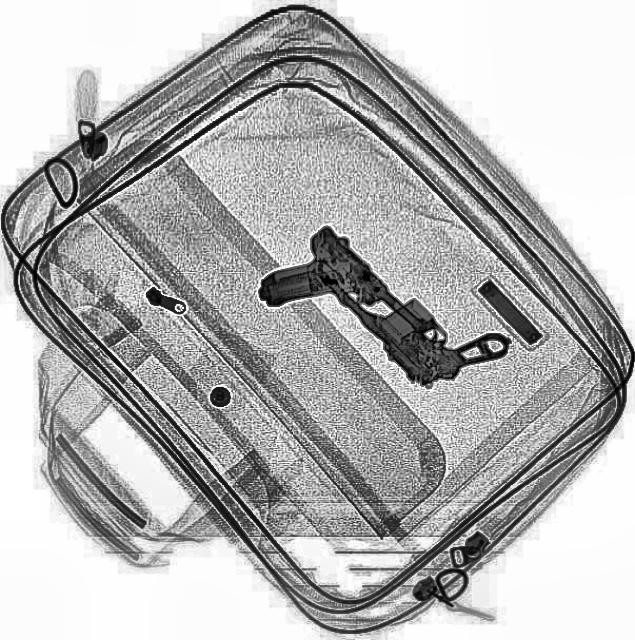Gun: (317, 221, 513, 407), (249, 222, 429, 392)
